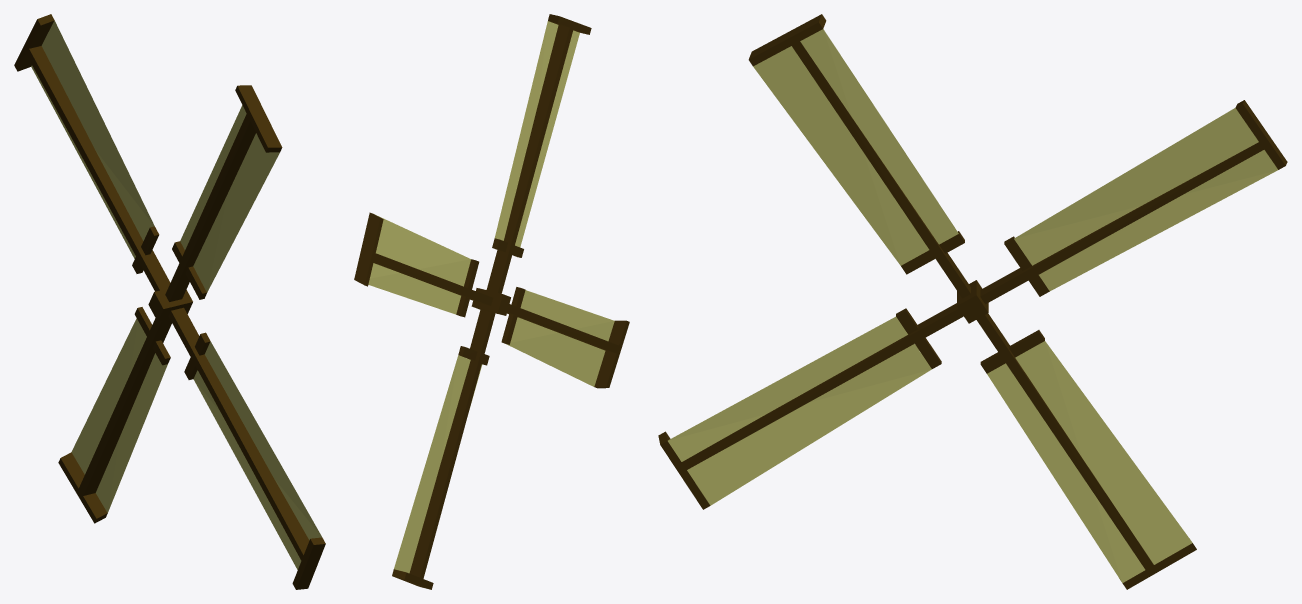
Rendered from town_blades0007.obj.
3 renders of one model, left to right at view 1: azimuth 30°, elevation 25°; view 2: azimuth 150°, elevation 25°; view 3: azimuth 270°, elevation 25°, orthographic. The views are drawn at different scales.
Parts seen in each view (by area): view 1: Sails; view 2: Sails; view 3: Sails.
Boxes of the visible parts, box(x1,y1,x2,y2) form: Sails: box(14, 14, 325, 589); Sails: box(354, 14, 629, 589); Sails: box(658, 14, 1287, 589).
Bounding box in the file's own units: 0.5135 × 8.97 × 8.96.
